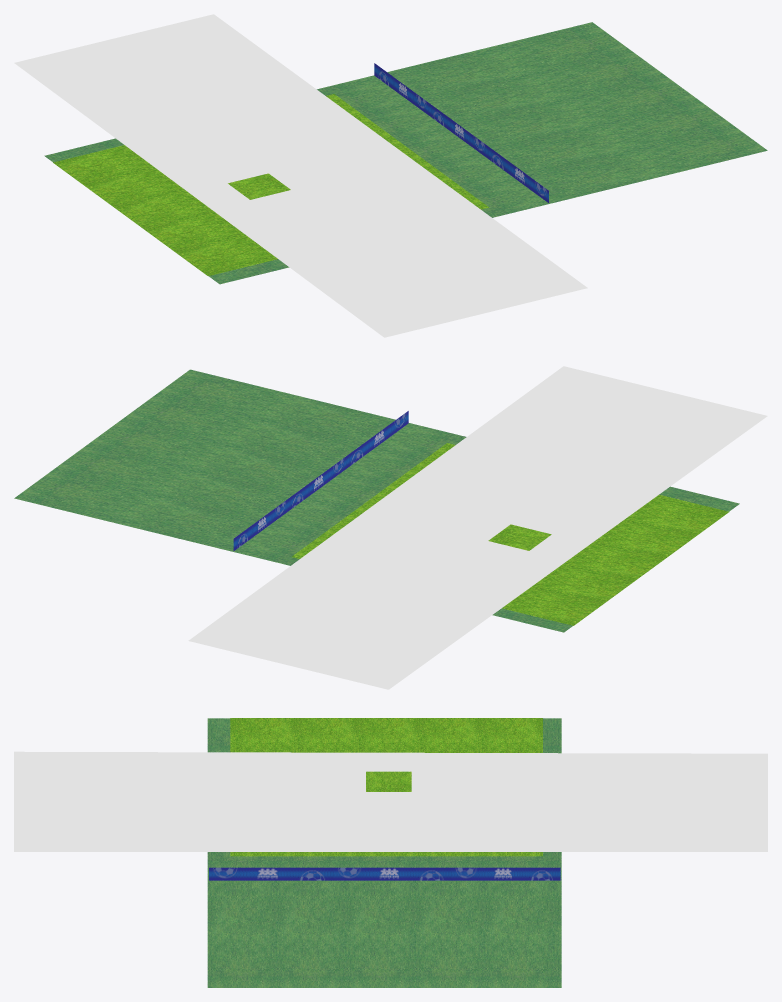
File: ground.glb
3 views of the same model, one above another, from view 1: azimuth 30°, elevation 25°; view 2: azimuth 150°, elevation 25°; view 3: azimuth 270°, elevation 25° (orthographic).
Visible parts, largest first — view 1: ground_lines, ground, court, banner; view 2: ground_lines, ground, court, banner; view 3: ground_lines, ground, court, banner.
Boxes of the visible parts, x1=… form: ground_lines: x1=14, y1=14, x2=587, y2=337; ground: x1=44, y1=22, x2=767, y2=284; court: x1=53, y1=94, x2=488, y2=275; banner: x1=374, y1=63, x2=548, y2=202; ground_lines: x1=188, y1=366, x2=767, y2=689; ground: x1=14, y1=369, x2=739, y2=632; court: x1=292, y1=443, x2=728, y2=625; banner: x1=233, y1=411, x2=408, y2=550; ground_lines: x1=14, y1=751, x2=767, y2=851; ground: x1=207, y1=718, x2=561, y2=987; court: x1=230, y1=718, x2=542, y2=856; banner: x1=209, y1=867, x2=560, y2=880.
Bounding box in the file's own units: 26.52 × 0.6004 × 31.33.
Materials: 4 (4 with a texture image).
